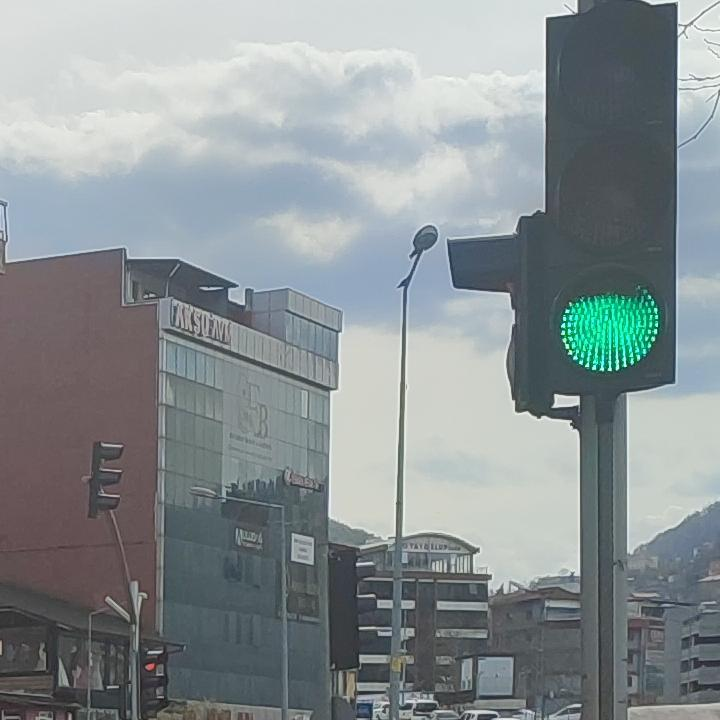green: (540, 0, 681, 395)
